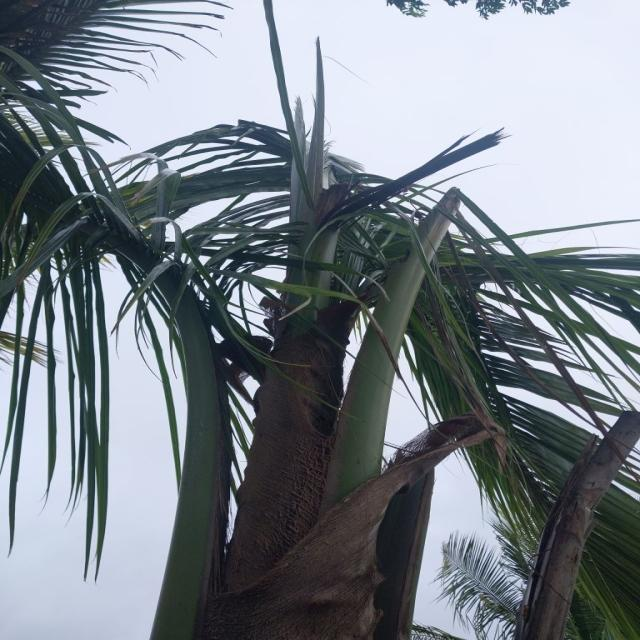bud root dropping: (0, 0, 638, 639)
